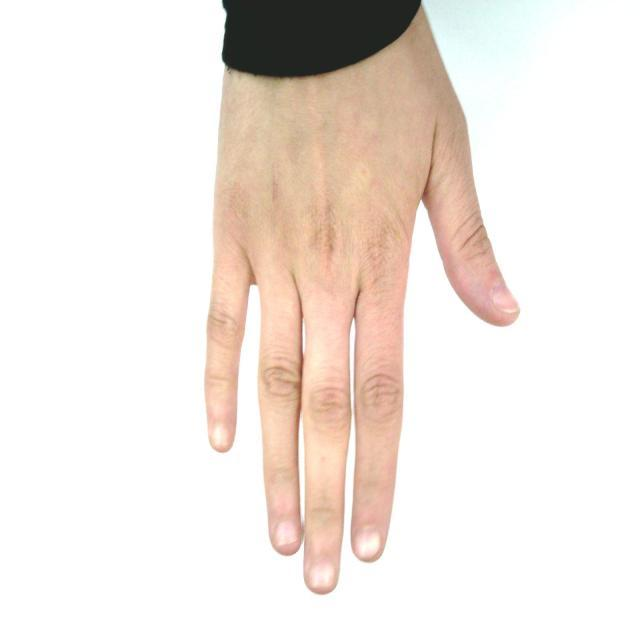Fingernail: (356, 527, 380, 558), (309, 559, 334, 588), (493, 286, 519, 313), (275, 522, 297, 546), (211, 422, 229, 446)
